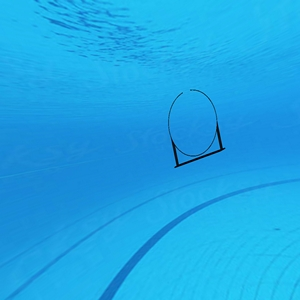circle: (166, 87, 228, 171)
